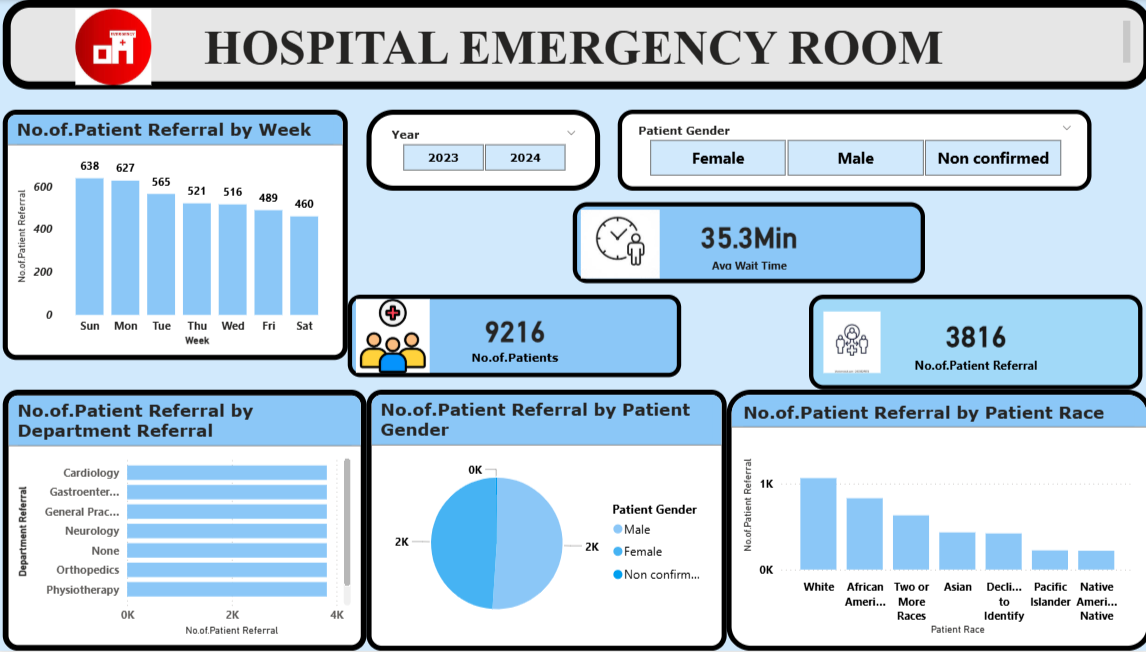

Layout of this report page (visuals, bound fields, positions):
{"tool":"powerbi","page":{"name":"Page 2","canvas":[1280,720],"ordinal":0},"visuals":[{"type":"textbox","box":[9.6,0,1270.7,100.2],"z":0},{"type":"clusteredColumnChart","fields":{"Y":["Hospital ER_Data.No.of.Patient Referral"],"Category":["Hospital ER_Data.Week"]},"box":[9.6,122.1,381.5,277.2],"z":1000},{"type":"clusteredBarChart","fields":{"Category":["Hospital ER_Data.Department Referral"],"Y":["Hospital ER_Data.No.of.Patient Referral"]},"box":[9.7,431.4,402.3,289],"z":2000},{"type":"slicer","fields":{"Values":["Date Table.Year"]},"box":[412,121.7,258.5,89.9],"z":3000},{"type":"slicer","fields":{"Values":["Hospital ER_Data.Patient Gender"]},"box":[689.9,121.7,524,89.9],"z":4000},{"type":"pieChart","fields":{"Category":["Hospital ER_Data.Patient Gender"],"Y":["Hospital ER_Data.No.of.Patient Referral"]},"box":[412,431.4,398.2,289],"z":5000},{"type":"clusteredColumnChart","fields":{"Y":["Hospital ER_Data.No.of.Patient Referral"],"Category":["Hospital ER_Data.Patient Race"]},"box":[810.2,431.4,470.1,289],"z":6000},{"type":"card","fields":{"Values":["Date Table.No.of.Patients"]},"box":[391.3,326.3,369.2,91.3],"z":7000},{"type":"card","fields":{"Values":["Hospital ER_Data.Avg Wait Time"]},"box":[640.1,224,389.9,89.9],"z":8000},{"type":"card","fields":{"Values":["Hospital ER_Data.No.of.Patient Referral"]},"box":[901.5,326.3,369.2,105.1],"z":9000},{"type":"image","box":[277.9,326.3,326.3,91.3],"z":10000},{"type":"image","box":[644.3,226.7,96.8,87.1],"z":11000},{"type":"image","box":[825.4,340.1,247.5,77.4],"z":12000},{"type":"image","box":[63.6,5.5,136.9,94],"z":13000}]}

Visuals, with their boxes in screenshot pixels (x1, y1, x2, y2), scaled from the page's 1280x720 canvas onto the 1146x652 screenshot:
textbox: box=[9, 0, 1145, 91]
clusteredColumnChart - Hospital ER_Data.No.of.Patient Referral x Hospital ER_Data.Week: box=[9, 111, 350, 362]
clusteredBarChart - Hospital ER_Data.Department Referral x Hospital ER_Data.No.of.Patient Referral: box=[9, 391, 369, 651]
slicer - Date Table.Year: box=[369, 110, 600, 192]
slicer - Hospital ER_Data.Patient Gender: box=[618, 110, 1087, 192]
pieChart - Hospital ER_Data.Patient Gender x Hospital ER_Data.No.of.Patient Referral: box=[369, 391, 725, 651]
clusteredColumnChart - Hospital ER_Data.No.of.Patient Referral x Hospital ER_Data.Patient Race: box=[725, 391, 1145, 651]
card - Date Table.No.of.Patients: box=[350, 295, 681, 378]
card - Hospital ER_Data.Avg Wait Time: box=[573, 203, 922, 284]
card - Hospital ER_Data.No.of.Patient Referral: box=[807, 295, 1138, 391]
image: box=[249, 295, 541, 378]
image: box=[577, 205, 664, 284]
image: box=[739, 308, 961, 378]
image: box=[57, 5, 180, 90]
